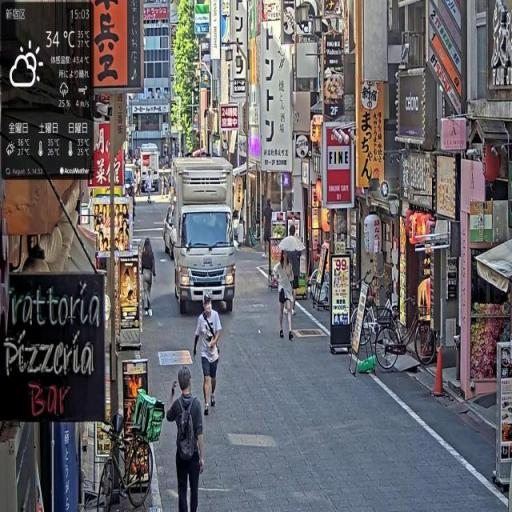person: (166, 362, 205, 512), (195, 295, 223, 416), (274, 250, 295, 340), (287, 226, 301, 317), (143, 237, 158, 318), (264, 198, 277, 259), (147, 171, 156, 205)
